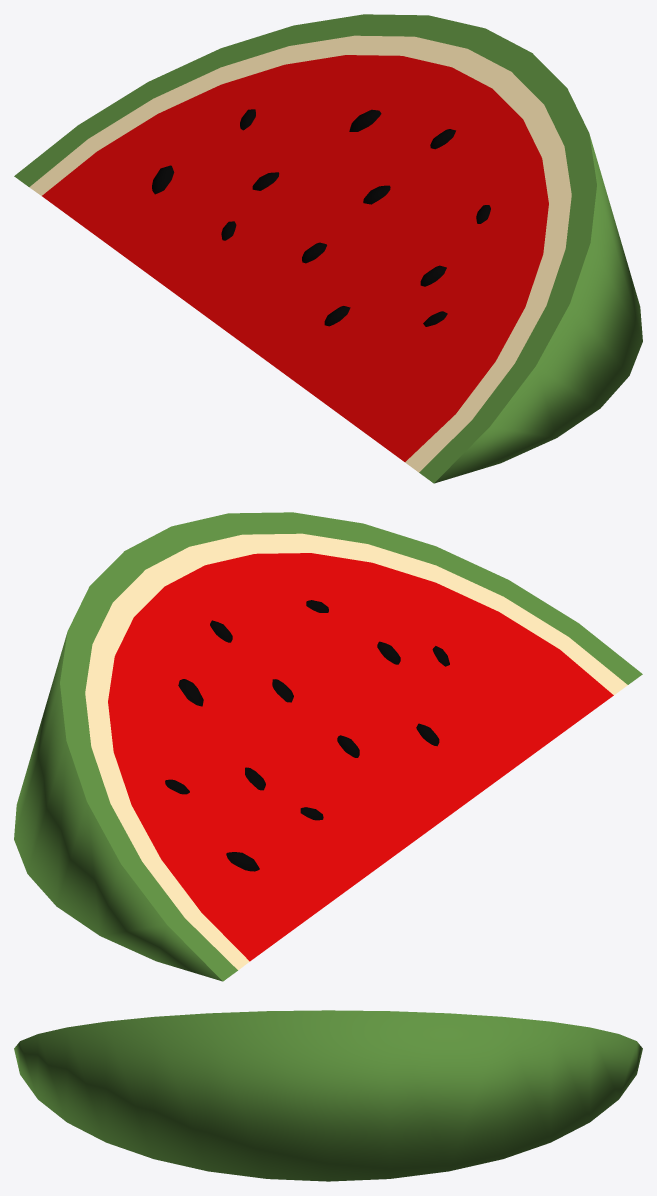
The model's file is melon.glb.
3 views of the same model, one above another, from view 1: azimuth 30°, elevation 25°; view 2: azimuth 150°, elevation 25°; view 3: azimuth 270°, elevation 25° (orthographic). The views are drawn at different scales.
Parts seen in each view (by area): view 1: Circle; view 2: Circle; view 3: Circle.
Boxes of the visible parts, x1,y1,x2,y2 form: Circle: (14, 14, 642, 483); Circle: (14, 512, 642, 981); Circle: (14, 1010, 642, 1181).
Bounding box in the file's own units: 1 × 0.5565 × 2.
